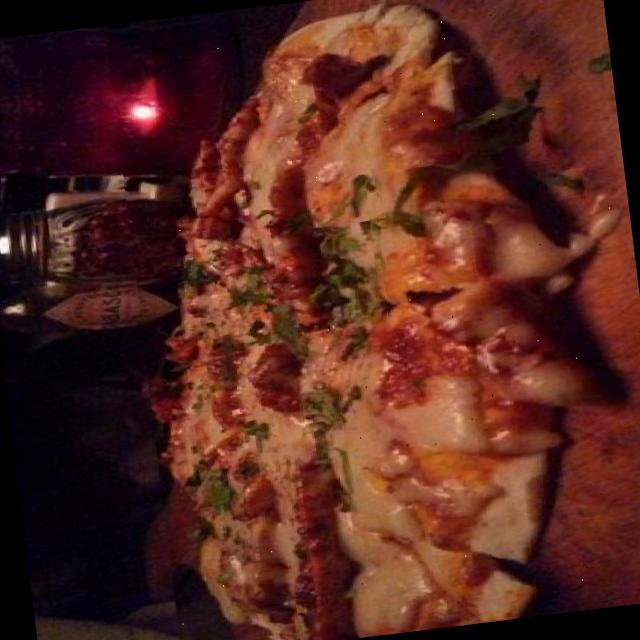basil: (452, 76, 553, 166), (322, 218, 390, 334), (380, 164, 442, 228), (300, 384, 346, 456), (216, 269, 272, 311), (267, 297, 307, 353), (194, 462, 237, 508), (536, 166, 586, 200), (340, 171, 380, 211), (335, 447, 359, 507), (186, 378, 227, 410), (185, 253, 215, 290), (238, 416, 274, 444)
pizza: (149, 0, 620, 640)
